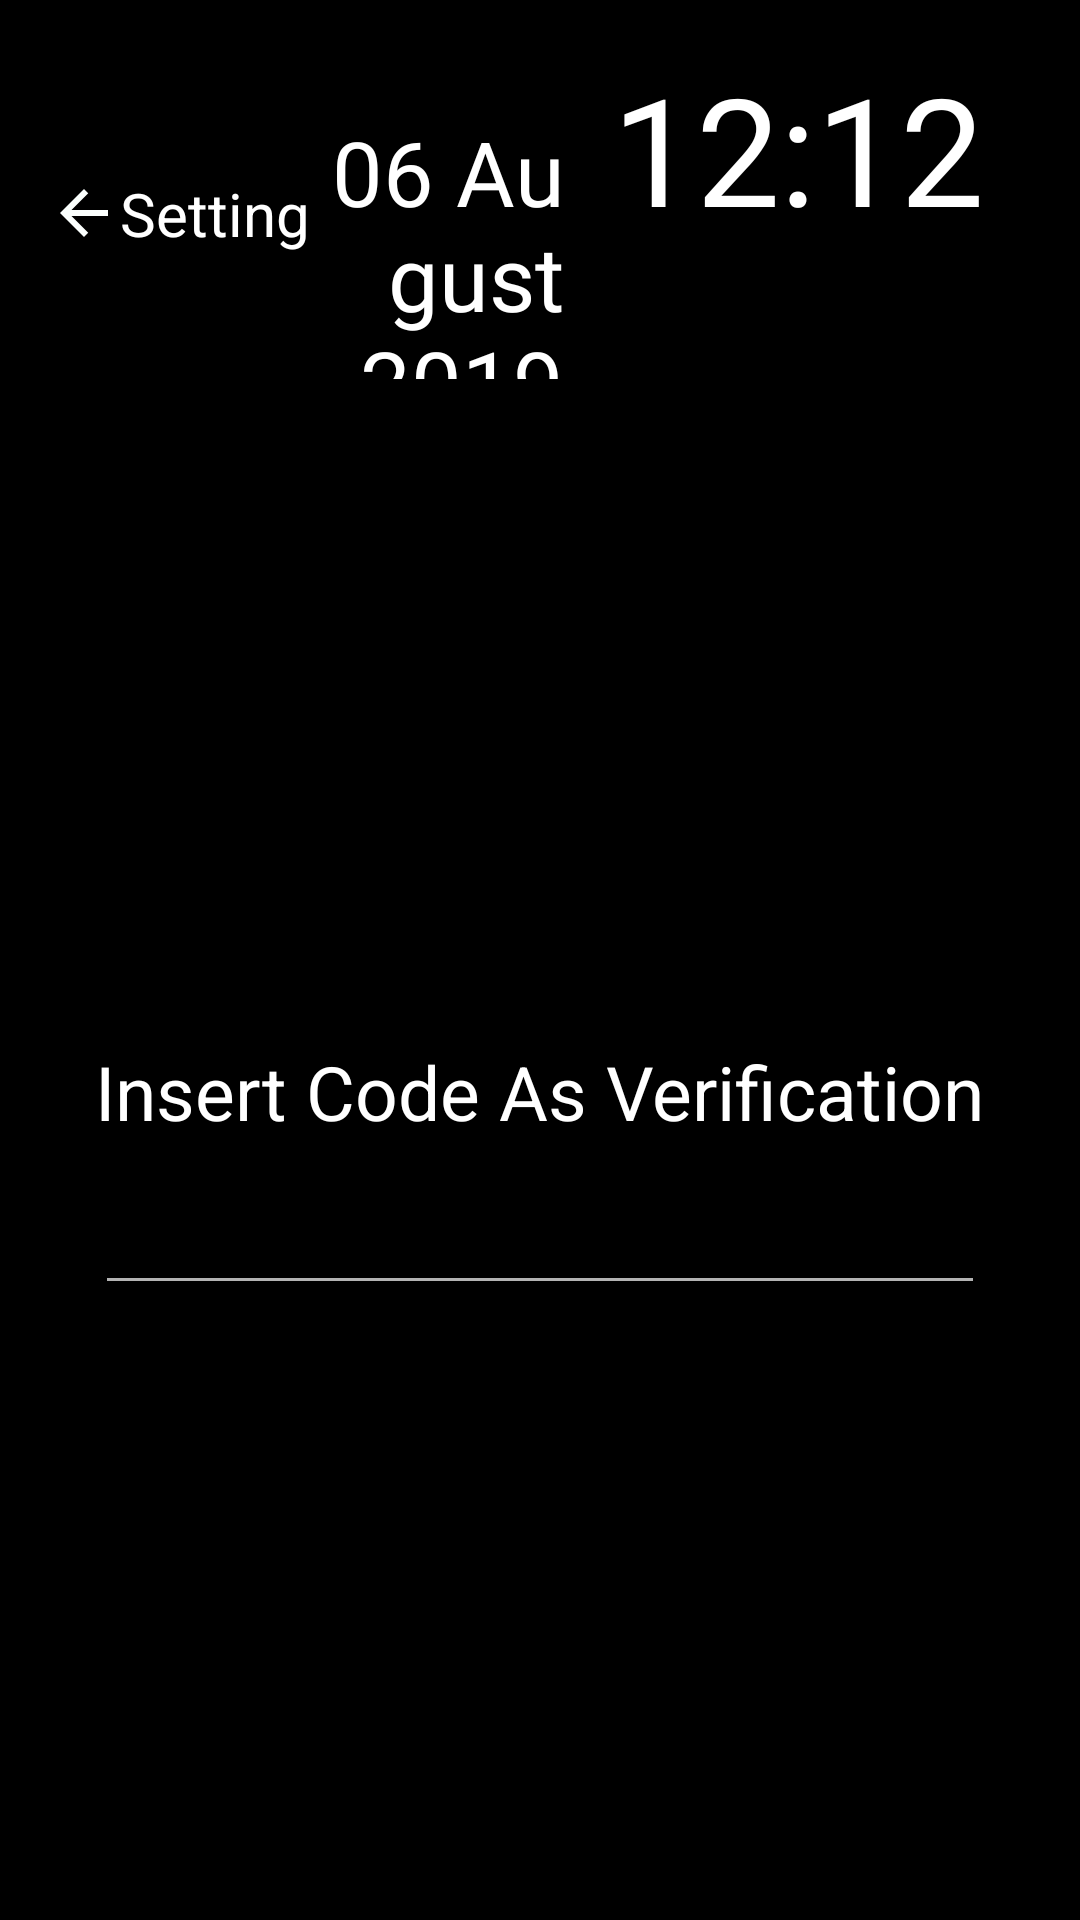

Where icons sit on this 1080×1920 app screen, as [left=x1, top=y1, right=x2, bottom=y2]:
arrow back: [left=60, top=189, right=108, bottom=237]
